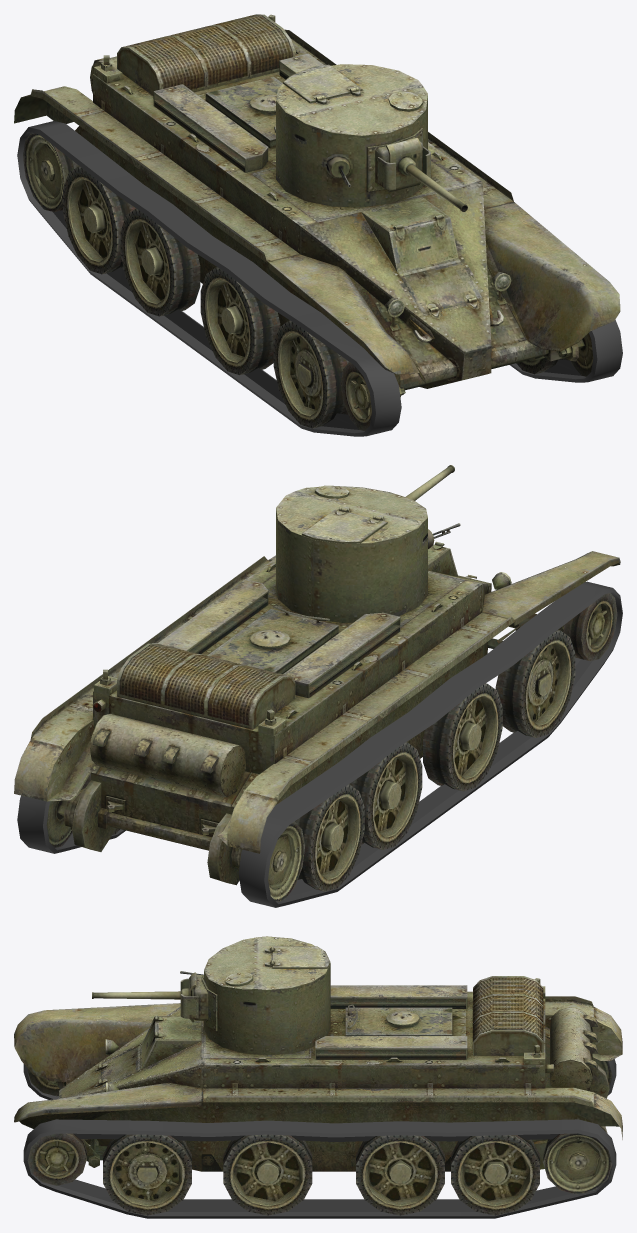
3 views of the same model, one above another, from view 1: azimuth 30°, elevation 25°; view 2: azimuth 150°, elevation 25°; view 3: azimuth 270°, elevation 25° (orthographic). The views are drawn at different scales.
Visible parts, largest first — view 1: Object_9, Object_7, Object_35, Object_17, Object_19, Object_21, Object_15, Object_13, Object_37, Object_11, Object_5; view 2: Object_9, Object_7, Object_35, Object_19, Object_21, Object_15, Object_17, Object_5, Object_13, Object_37, Object_23; view 3: Object_9, Object_37, Object_7, Object_29, Object_31, Object_25, Object_27, Object_23, Object_33, Object_11, Object_35.
Boxes of the visible parts, x1,y1,x2,y2 form: Object_9: (14, 14, 620, 397); Object_7: (276, 64, 430, 207); Object_35: (17, 121, 401, 436); Object_17: (120, 208, 200, 316); Object_19: (200, 267, 280, 375); Object_21: (273, 320, 348, 428); Object_15: (63, 166, 135, 274); Object_13: (23, 132, 79, 211); Object_37: (510, 319, 622, 382); Object_11: (386, 138, 467, 211); Object_5: (341, 362, 371, 430); Object_9: (14, 541, 620, 885); Object_7: (276, 485, 460, 622); Object_35: (238, 581, 622, 907); Object_19: (423, 683, 502, 791); Object_21: (495, 630, 575, 737); Object_15: (295, 784, 364, 891); Object_17: (349, 742, 422, 849); Object_5: (563, 593, 617, 661); Object_13: (268, 821, 304, 902); Object_37: (17, 795, 125, 853); Object_23: (46, 787, 82, 847); Object_9: (14, 976, 622, 1171); Object_37: (23, 1119, 616, 1218); Object_7: (180, 936, 330, 1054); Object_29: (223, 1134, 312, 1215); Object_31: (103, 1134, 191, 1215); Object_25: (451, 1135, 539, 1215); Object_27: (356, 1135, 444, 1215); Object_23: (543, 1133, 612, 1194); Object_33: (27, 1133, 86, 1185); Object_11: (92, 972, 196, 1022); Object_35: (23, 1059, 616, 1099).
Size of the model in its own units: 1568 by 1518 by 4000.
Materials: 2 (1 with a texture image).
